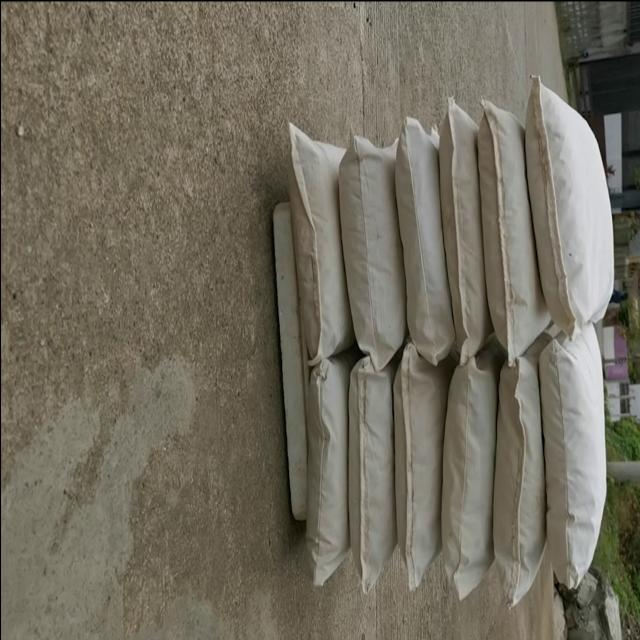Sack: (532, 77, 611, 319), (539, 339, 613, 590), (281, 111, 350, 359), (434, 100, 496, 348), (400, 115, 460, 357), (486, 366, 546, 592), (339, 370, 399, 585), (439, 361, 493, 596), (336, 133, 390, 359), (292, 361, 346, 584), (478, 102, 522, 348), (394, 352, 436, 591)
